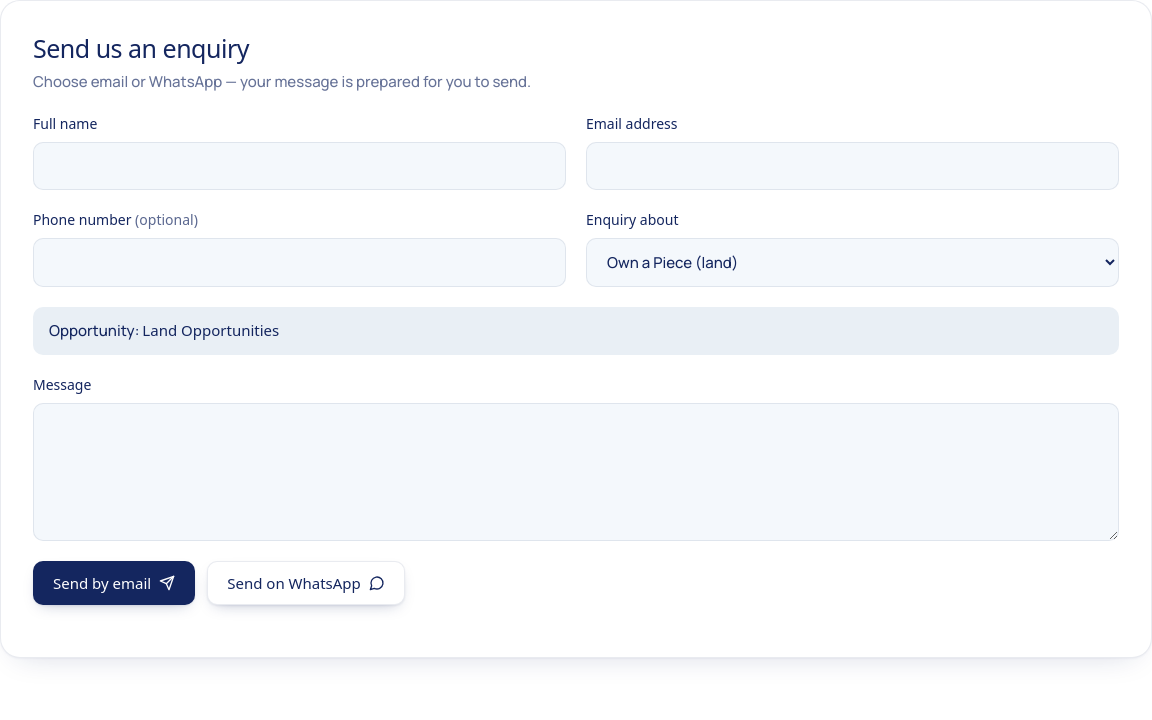
Scenario: EnquiryForm › shows the ownership opportunity the visitor came from, and hides it if the type changes
This screenshot has width=1152, height=720.
Expected: the text "Land Opportunities" is shown, [142, 320, 279, 340]
Select "General enquiry" in the dropdown labelled "Enquiry about" at (852, 262), box [586, 238, 1119, 287]
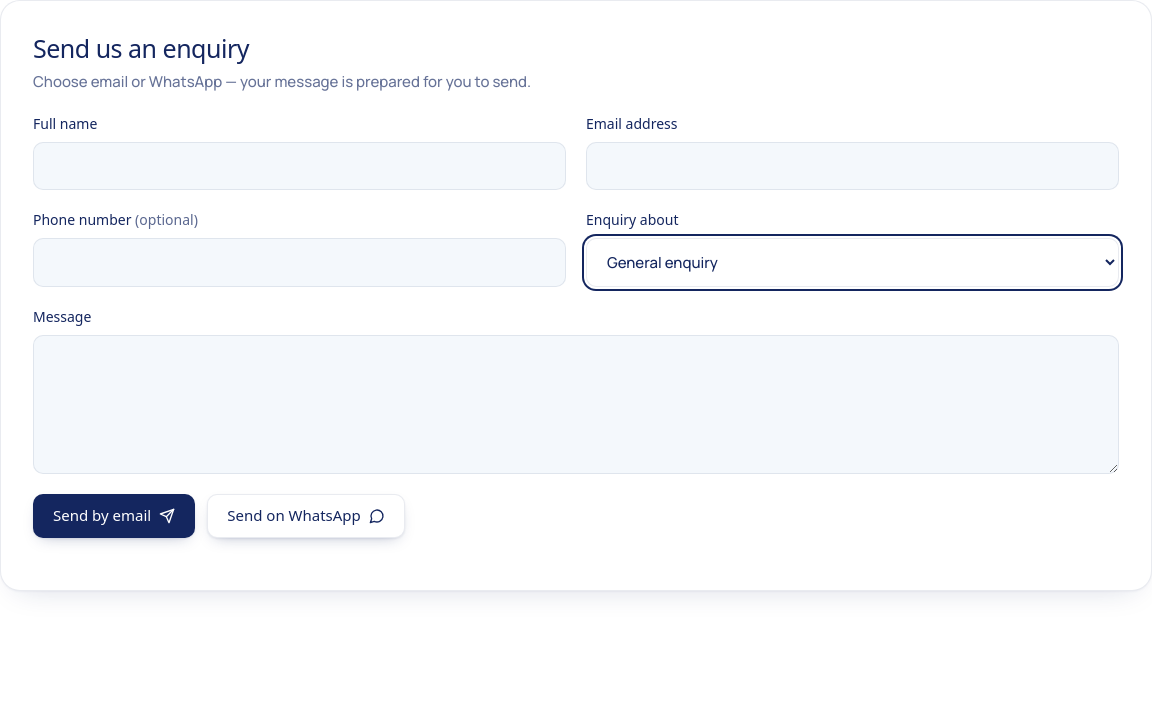
Now the text "Land Opportunities" is gone
